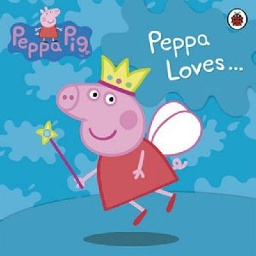Peppa: (34, 55, 203, 228)
